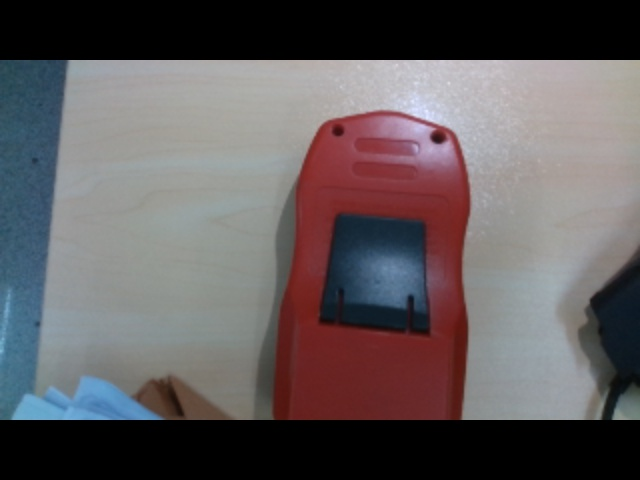Multimeter: (270, 110, 464, 420)
Screw holes: (428, 128, 450, 146), (330, 122, 345, 137)
